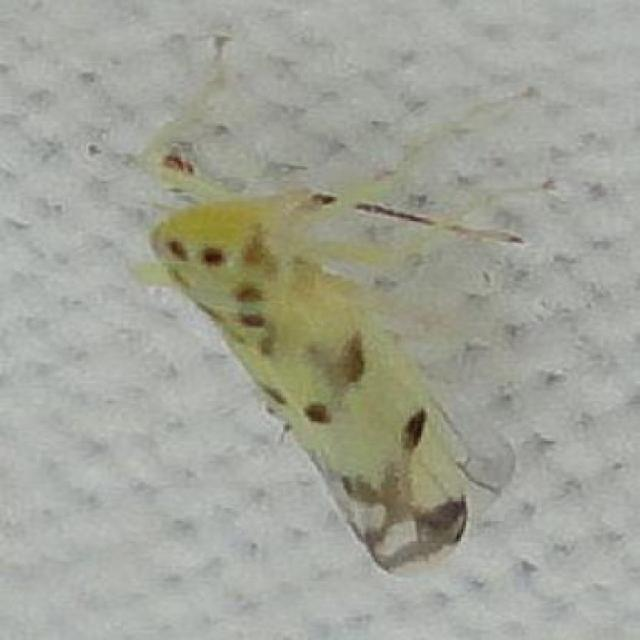green-leafhopper: (139, 168, 503, 574)
